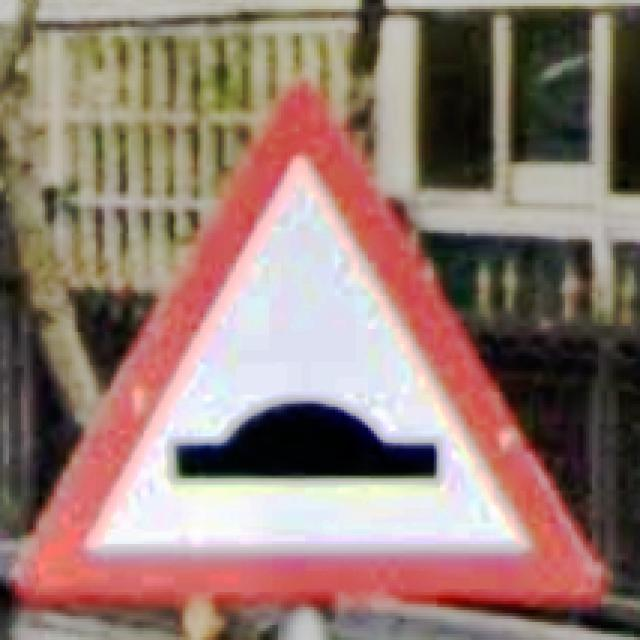hump: (21, 81, 599, 598)
